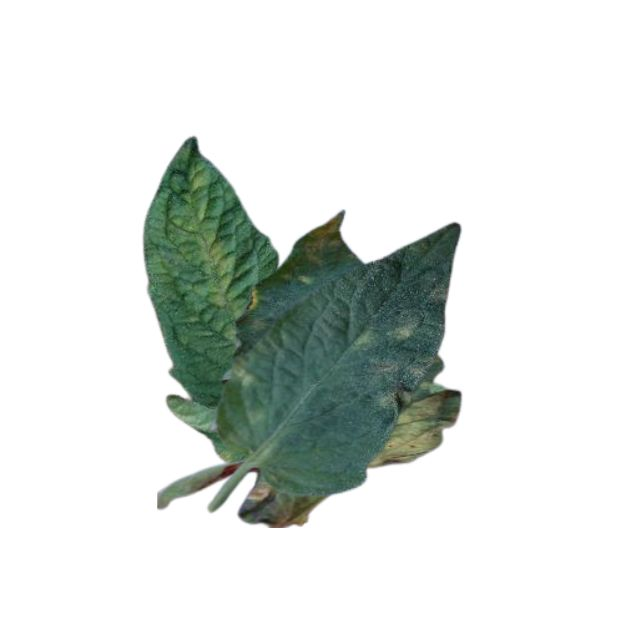Leaf_Mold: (363, 353, 463, 470), (173, 156, 232, 310), (240, 473, 320, 530), (283, 211, 351, 268)
